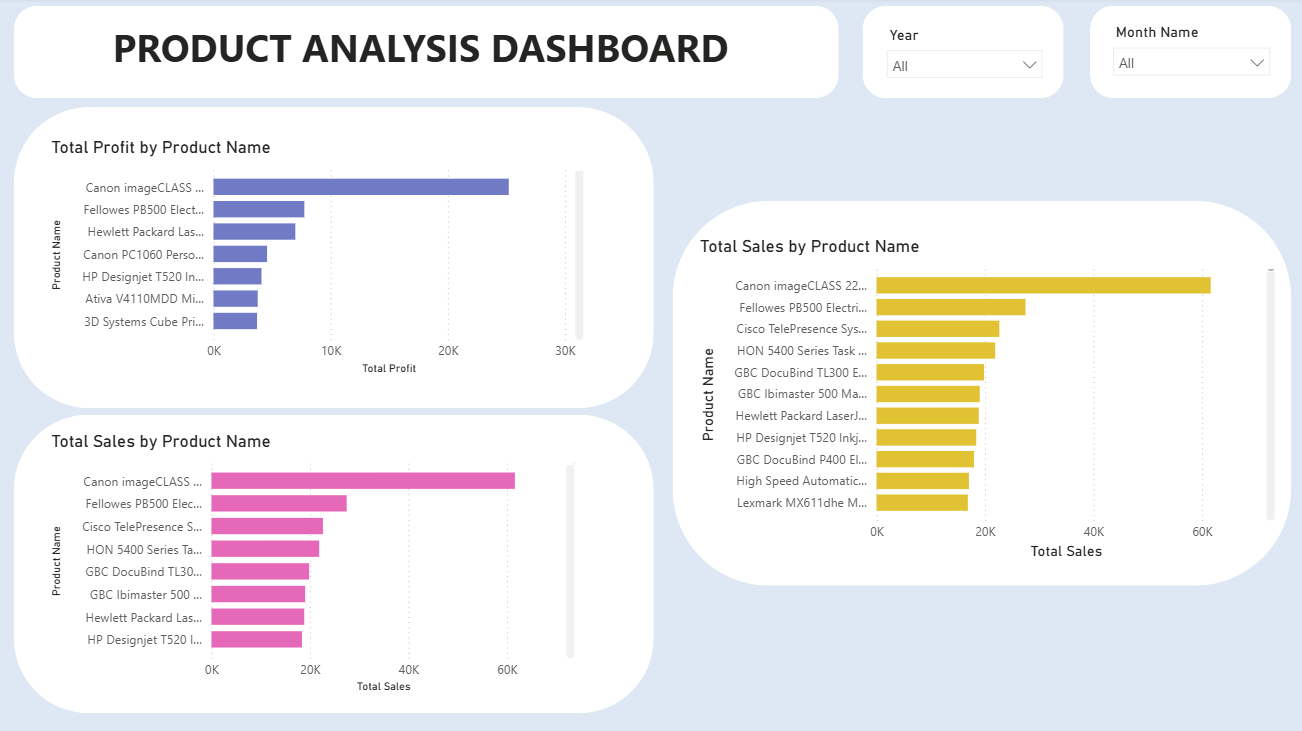

This screenshot's page, from the dashboard's own definition file:
{"tool":"powerbi","page":{"name":"Product Analysis","canvas":[1280,720],"ordinal":3},"visuals":[{"type":"shape","box":[843.8,8.6,196.9,90.5],"z":0},{"type":"shape","box":[657.9,199.3,605.3,376.6],"z":1000},{"type":"shape","box":[13.5,408.4,626.1,292.3],"z":2000},{"type":"shape","box":[13.5,107.6,626.1,294.7],"z":3000},{"type":"clusteredBarChart","fields":{"Category":["Sample - Superstore.Product Name"],"Y":["Sample - Superstore.Total Sales"]},"box":[679.9,233.6,572.3,321.6],"z":4000},{"type":"clusteredBarChart","fields":{"Category":["Sample - Superstore.Product Name"],"Y":["Sample - Superstore.Total Sales"]},"box":[45.2,424.3,522.1,261.7],"z":5000},{"type":"clusteredBarChart","fields":{"Category":["Sample - Superstore.Product Name"],"Y":["Sample - Superstore.Total Profit"]},"box":[45.2,137,530.7,237.2],"z":6000},{"type":"shape","box":[13.5,8.6,807.1,90.5],"z":7000},{"type":"textbox","box":[26.9,18.3,769.2,70.9],"z":8000},{"type":"slicer","fields":{"Values":["Date Table.Year"]},"box":[857.2,23.2,172.4,61.1],"z":9000},{"type":"shape","box":[1066.3,8.6,196.9,90.5],"z":10000},{"type":"slicer","fields":{"Values":["Date Table.Month Name"]},"box":[1078.5,20.8,173.6,66],"z":11000}]}

Visuals, with their boxes in screenshot pixels (x1, y1, x2, y2), scaled from the page's 1280x720 canvas onto the 1302x731 screenshot:
shape: pyautogui.locateOnScreen(858, 9, 1059, 101)
shape: pyautogui.locateOnScreen(669, 202, 1285, 585)
shape: pyautogui.locateOnScreen(14, 415, 651, 711)
shape: pyautogui.locateOnScreen(14, 109, 651, 408)
clusteredBarChart - Sample - Superstore.Product Name x Sample - Superstore.Total Sales: pyautogui.locateOnScreen(692, 237, 1274, 564)
clusteredBarChart - Sample - Superstore.Product Name x Sample - Superstore.Total Sales: pyautogui.locateOnScreen(46, 431, 577, 696)
clusteredBarChart - Sample - Superstore.Product Name x Sample - Superstore.Total Profit: pyautogui.locateOnScreen(46, 139, 586, 380)
shape: pyautogui.locateOnScreen(14, 9, 835, 101)
textbox: pyautogui.locateOnScreen(27, 19, 810, 91)
slicer - Date Table.Year: pyautogui.locateOnScreen(872, 24, 1047, 86)
shape: pyautogui.locateOnScreen(1085, 9, 1285, 101)
slicer - Date Table.Month Name: pyautogui.locateOnScreen(1097, 21, 1274, 88)
